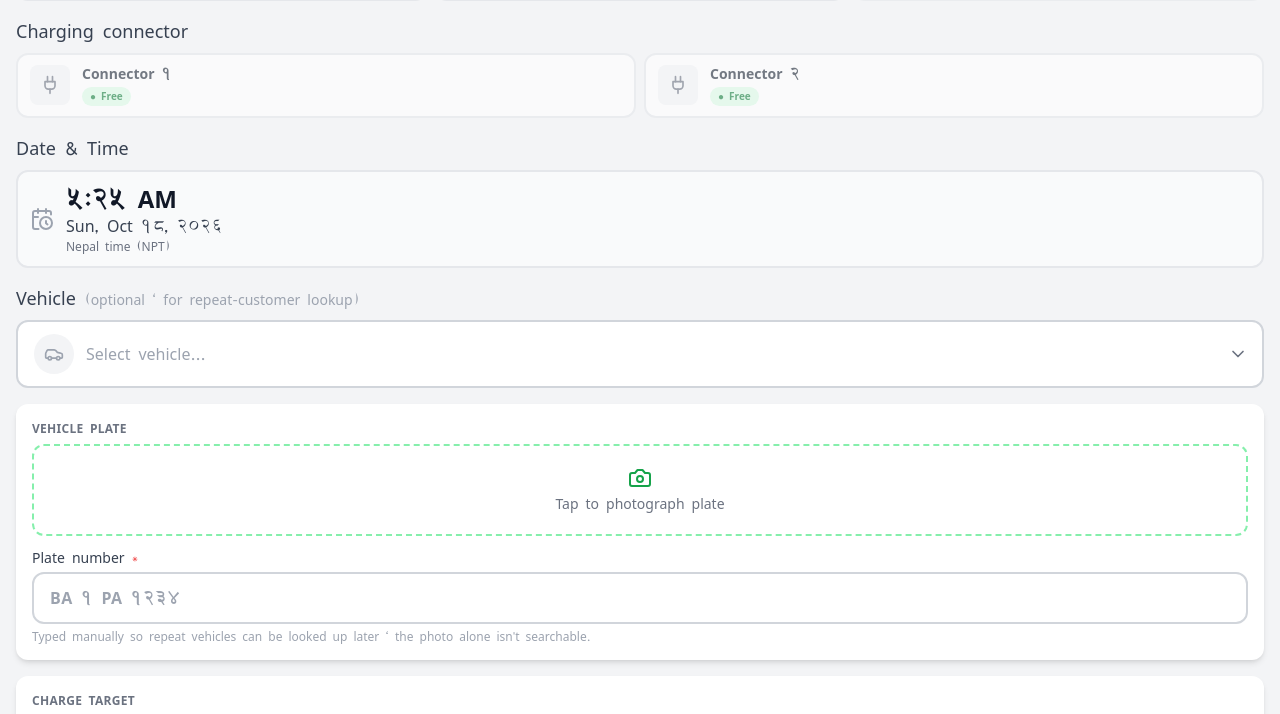
Test case: EVEntryPage › start form fields › shows the chosen vehicle and its price on the field, and lets staff clear it
This screenshot has width=1280, height=714.
(page scrolled)
Click the button named "Vehicle (optional" at (54, 354), box [16,320,1264,388]
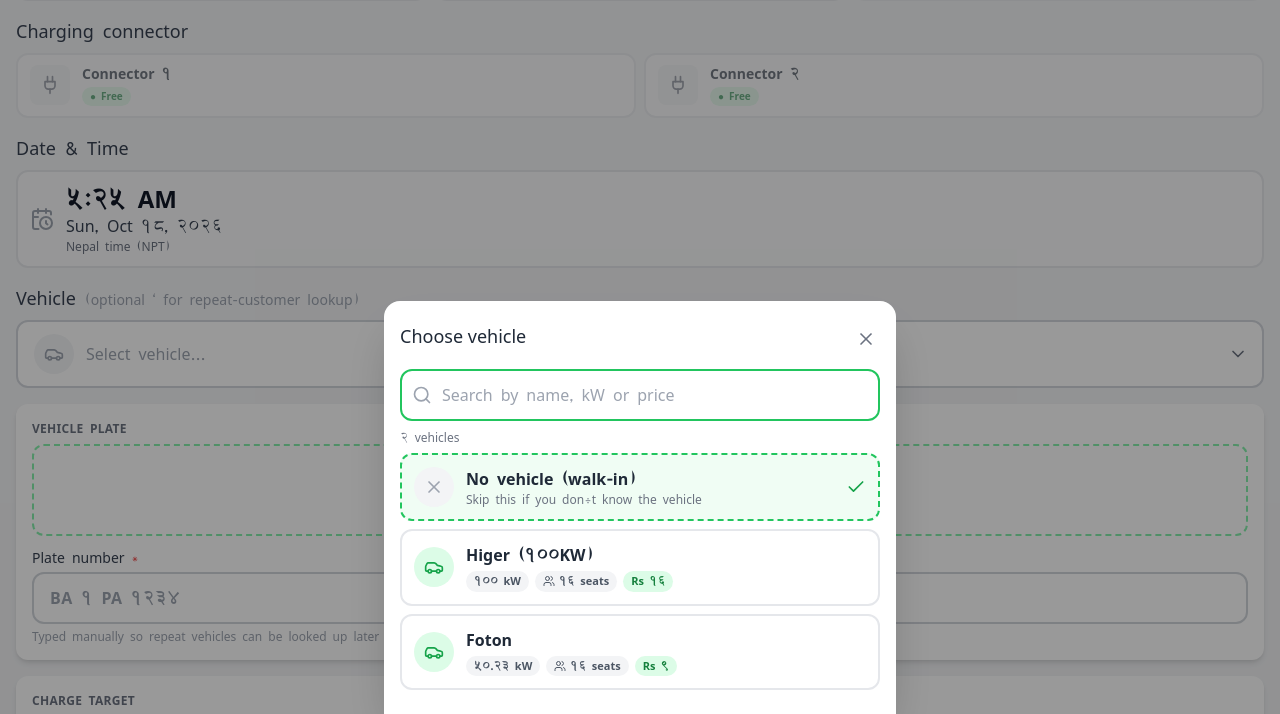
Click the option "Foton 50.23 kW 16 seats Rs 9" at (434, 652), box [400,614,880,690]
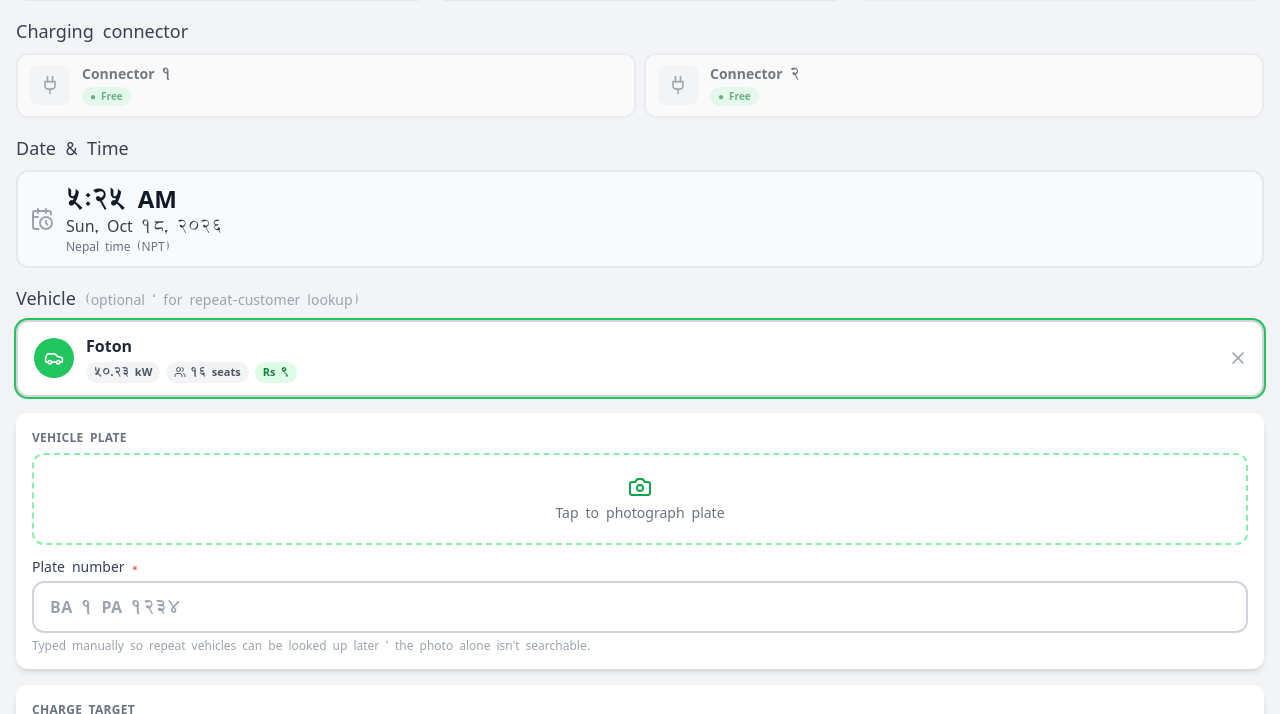
Result: the button named "Vehicle (optional" shows "Foton" at [16,320,1264,396]
Result: the button named "Vehicle (optional" shows "Rs 9" at [16,320,1264,396]
Click the button named "Clear vehicle" at (1238, 358), box [1216,336,1260,380]
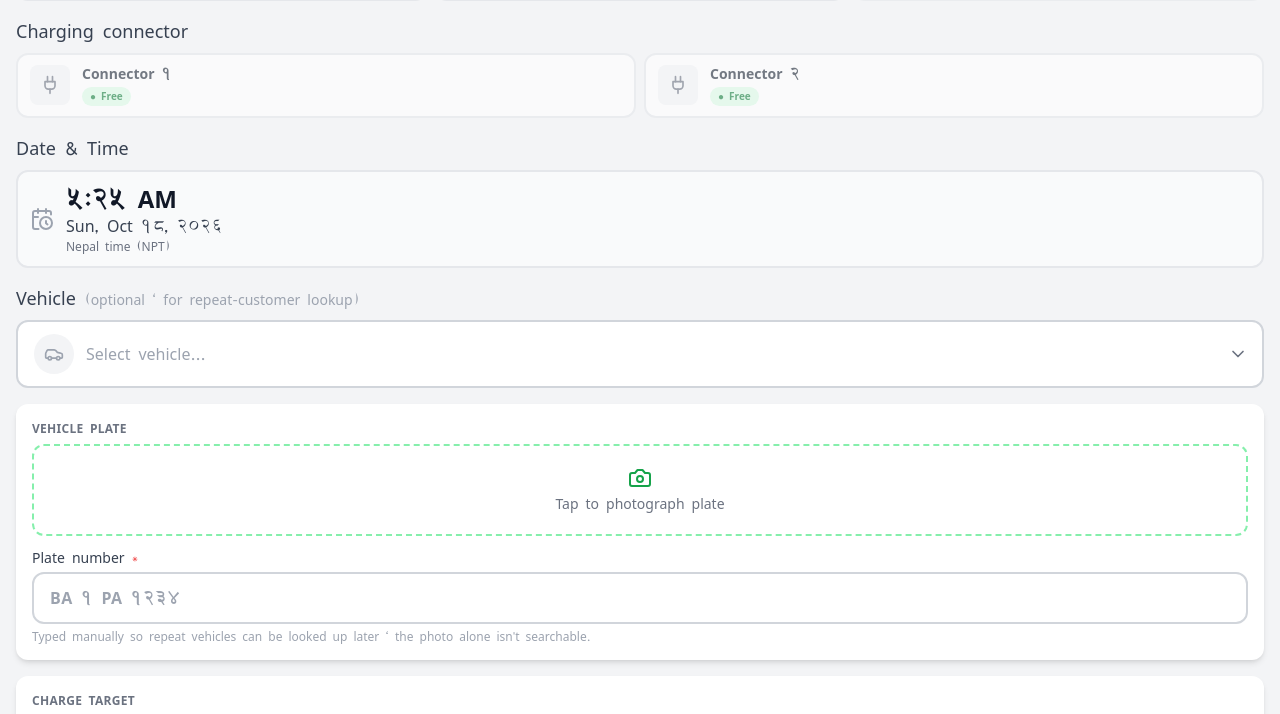
Result: the button named "Vehicle (optional" reads "Select vehicle..." at [16,320,1264,388]
